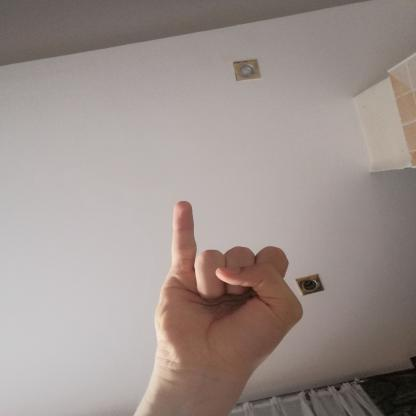MEEM: (135, 188, 319, 380)
